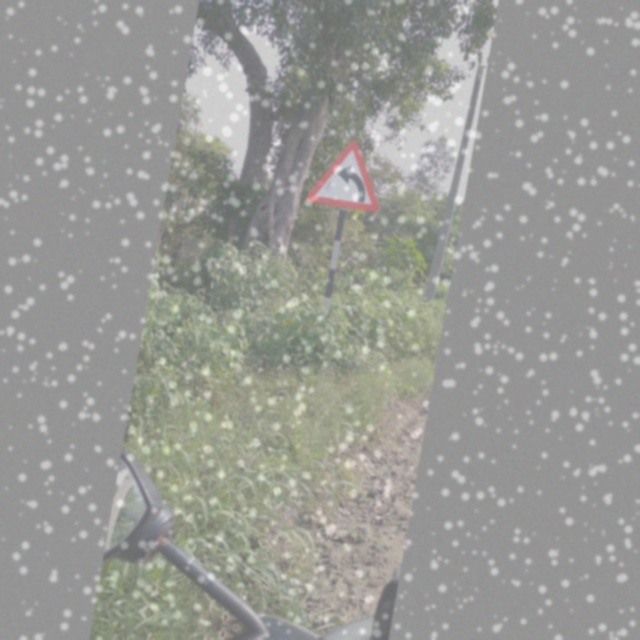Left_Hand_Curve: (301, 128, 390, 218)
